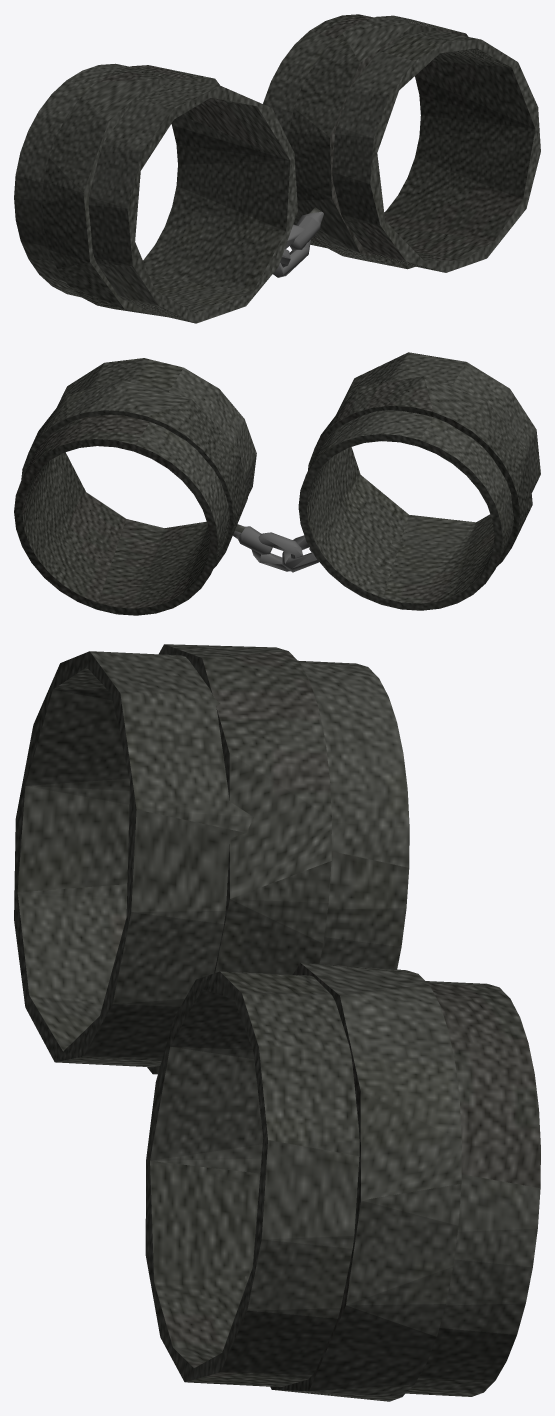
The model's file is LeatherCuffs.fbx.
The picture shows the model from 3 angles, top to bottom: view 1: azimuth 30°, elevation 25°; view 2: azimuth 150°, elevation 25°; view 3: azimuth 270°, elevation 25°; orthographic projection. The views are drawn at different scales.
Parts seen in each view (by area): view 1: Cuffs_ground; view 2: Cuffs_ground; view 3: Cuffs_ground.
Part boxes in pixels (box(x1,y1,x2,y2)): Cuffs_ground: box(14, 14, 540, 323); Cuffs_ground: box(14, 352, 540, 615); Cuffs_ground: box(14, 644, 540, 1401).
Size of the model in its own units: 0.1276 by 0.0668 by 0.0649.
